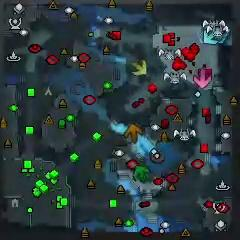x1: (195, 69, 212, 88)
x2: (131, 60, 147, 76)
x3: (203, 28, 218, 45)
x4: (132, 164, 149, 181)
x5: (125, 124, 143, 143)
